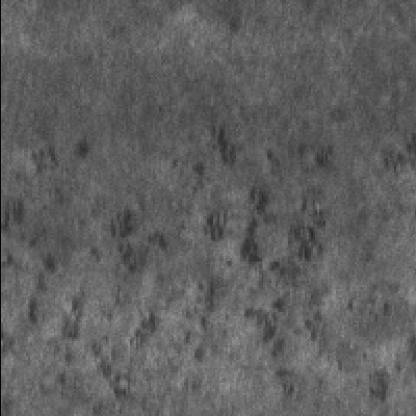rolled-in_scale: (124, 140, 368, 404), (0, 176, 170, 378)
